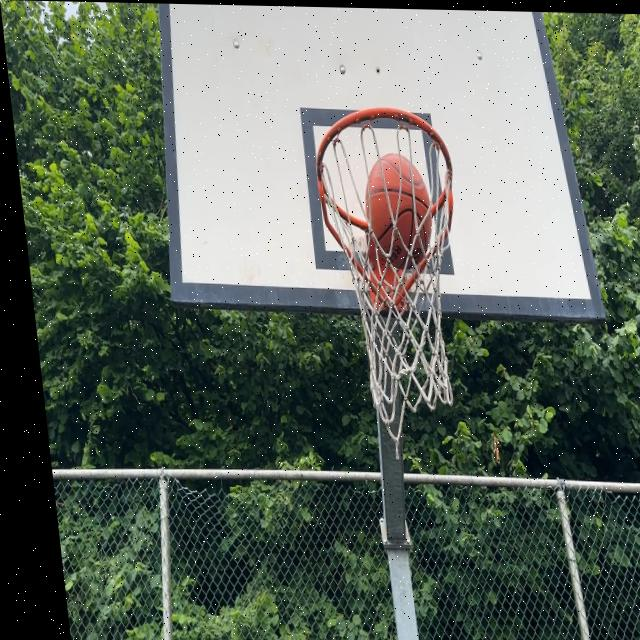Goal: (362, 156, 440, 272)
